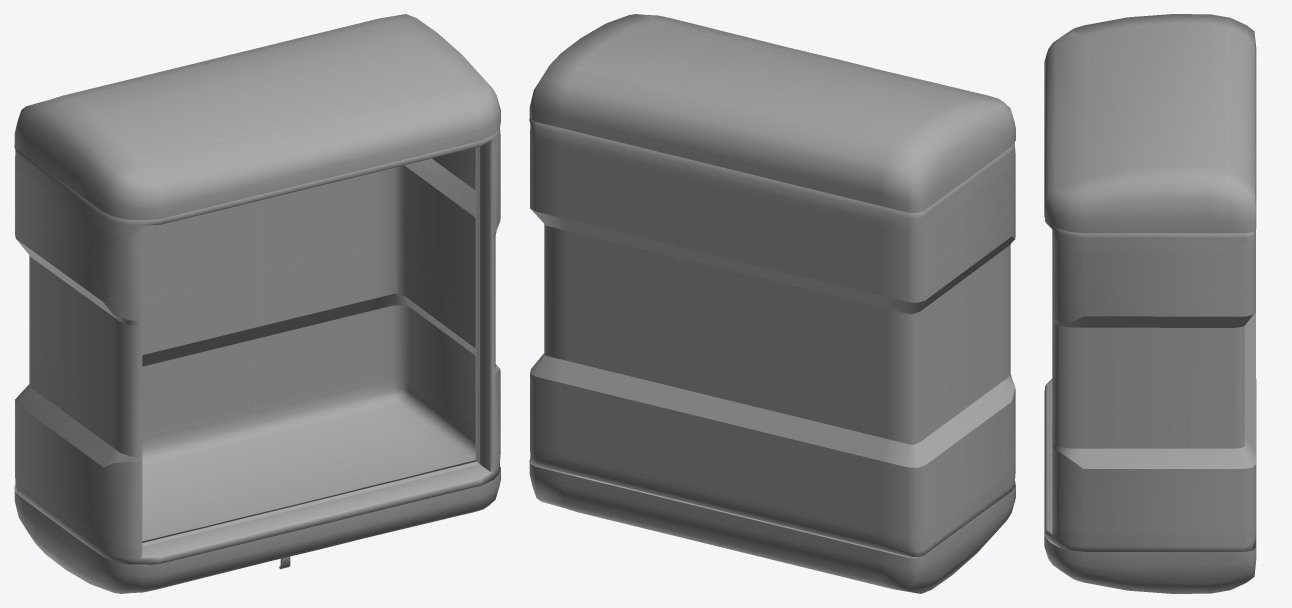
Rendered from MeshToaster_23_0_GeomSubset_0.obj.
3 renders of one model, left to right at view 1: azimuth 30°, elevation 25°; view 2: azimuth 150°, elevation 25°; view 3: azimuth 270°, elevation 25°, orthographic. The views are drawn at different scales.
Parts seen in each view (by area): view 1: MeshToaster_23_0_GeomSubset_0; view 2: MeshToaster_23_0_GeomSubset_0; view 3: MeshToaster_23_0_GeomSubset_0.
Boxes of the visible parts, left/top/right/bottom form: MeshToaster_23_0_GeomSubset_0: left=14, top=14, right=500, bottom=593; MeshToaster_23_0_GeomSubset_0: left=529, top=14, right=1015, bottom=593; MeshToaster_23_0_GeomSubset_0: left=1044, top=14, right=1256, bottom=593.
Size of the model in its own units: 0.297 by 0.3378 by 0.1647.
